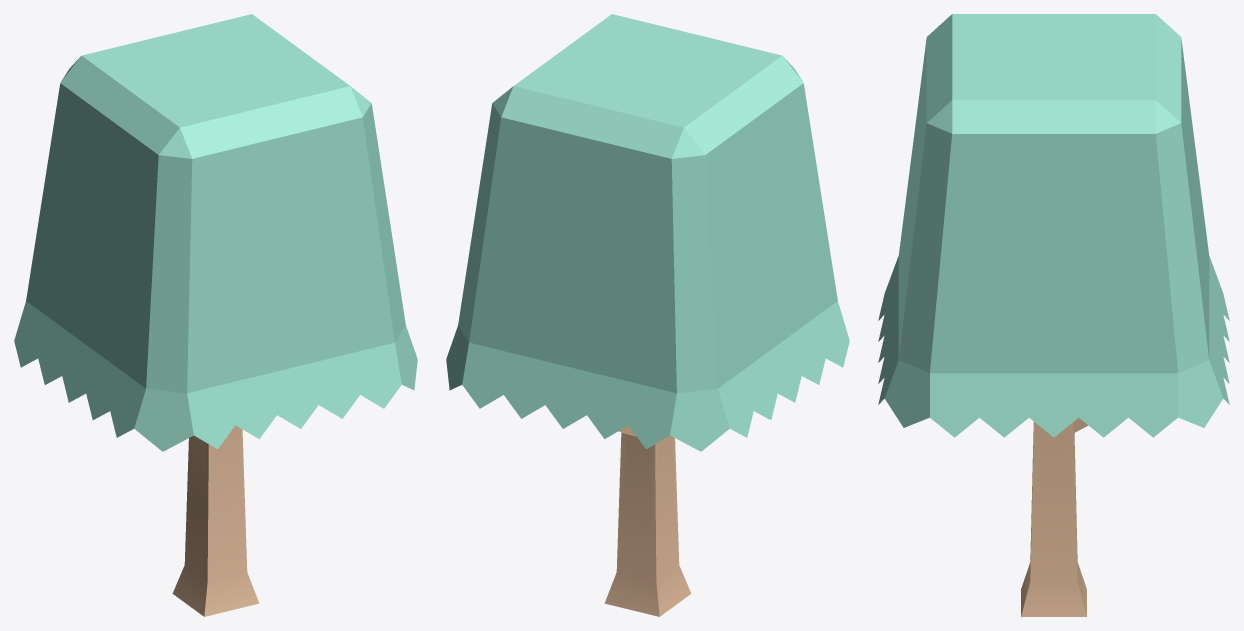
3 renders of one model, left to right at view 1: azimuth 30°, elevation 25°; view 2: azimuth 150°, elevation 25°; view 3: azimuth 270°, elevation 25°, orthographic. The views are drawn at different scales.
Visible parts, largest first — view 1: tree; view 2: tree; view 3: tree.
Boxes of the visible parts, x1=… form: tree: x1=14, y1=14, x2=417, y2=616; tree: x1=446, y1=14, x2=849, y2=616; tree: x1=878, y1=14, x2=1229, y2=616.
Size of the model in its own units: 1.13 by 1.94 by 1.13.
